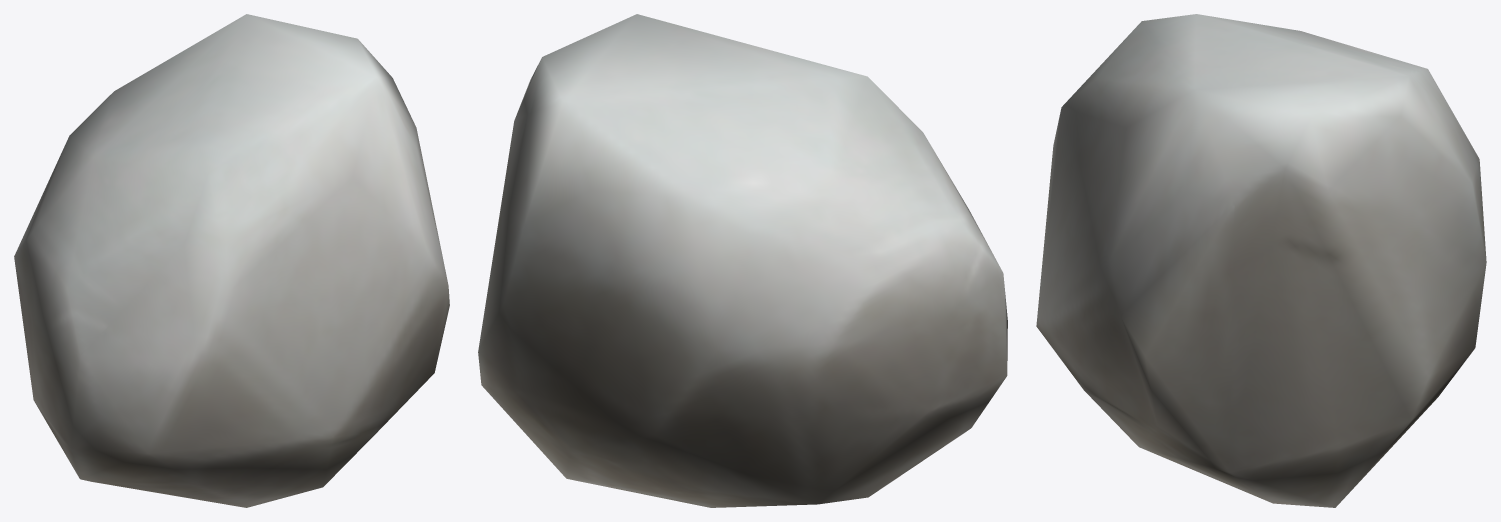
Rendered from SM_Gem_Silver_003.fbx.
3 renders of one model, left to right at view 1: azimuth 30°, elevation 25°; view 2: azimuth 150°, elevation 25°; view 3: azimuth 270°, elevation 25°, orthographic. The views are drawn at different scales.
Parts seen in each view (by area): view 1: SM_Gem_Silver_003; view 2: SM_Gem_Silver_003; view 3: SM_Gem_Silver_003.
Part boxes in pixels (left/top/right/bottom): SM_Gem_Silver_003: left=14, top=14, right=449, bottom=507; SM_Gem_Silver_003: left=478, top=14, right=1007, bottom=507; SM_Gem_Silver_003: left=1036, top=14, right=1486, bottom=507.
Bounding box in the file's own units: 17.27 × 16.79 × 16.28.
